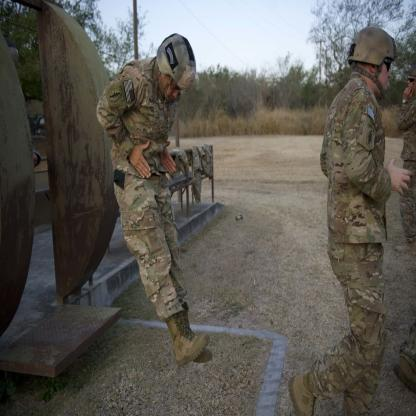Helmet: (347, 25, 399, 97), (154, 29, 191, 100), (410, 62, 416, 94)
